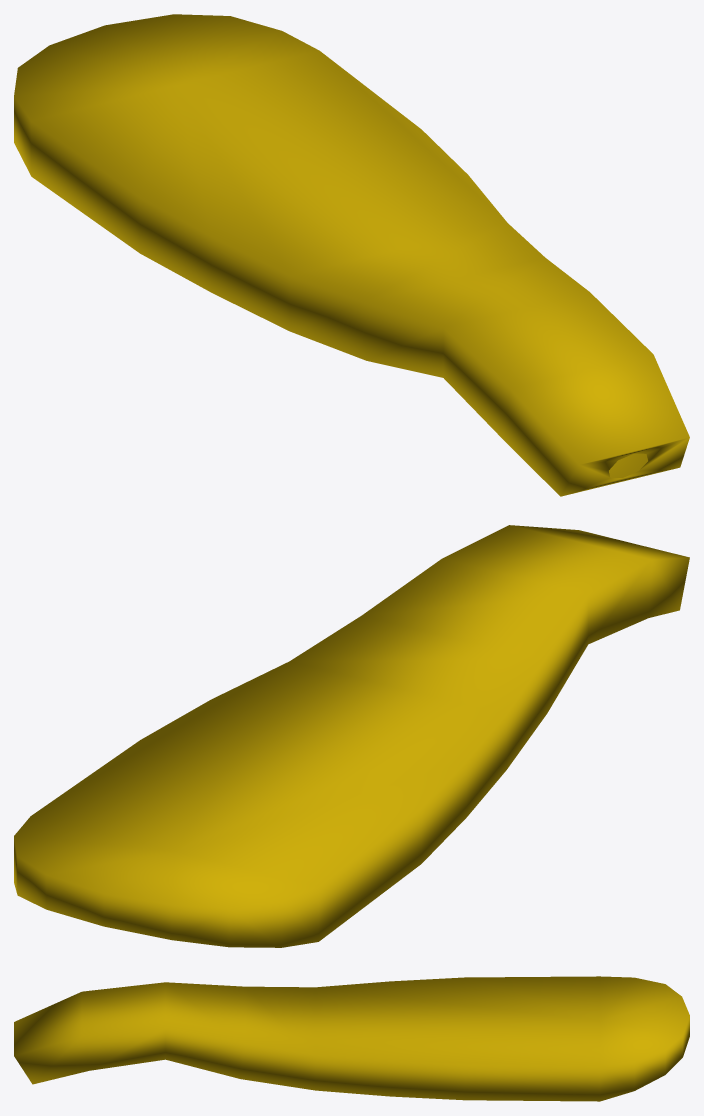
The model's file is original_11.obj.
3 views of the same model, one above another, from view 1: azimuth 30°, elevation 25°; view 2: azimuth 150°, elevation 25°; view 3: azimuth 270°, elevation 25° (orthographic). The views are drawn at different scales.
Parts seen in each view (by area): view 1: #ID69; view 2: #ID69; view 3: #ID69.
Boxes of the visible parts, left/top/right/bottom form: #ID69: left=14, top=14, right=689, bottom=496; #ID69: left=14, top=525, right=689, bottom=947; #ID69: left=14, top=976, right=689, bottom=1101.
Bounding box in the file's own units: 0.1688 × 0.0535 × 0.537.
